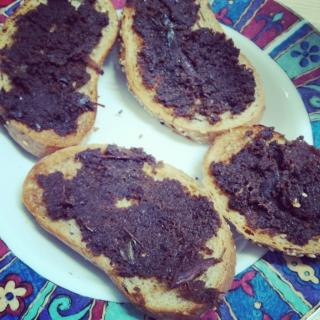Cookie: (19, 142, 237, 320), (120, 0, 266, 146), (0, 0, 119, 155), (200, 123, 317, 260)
